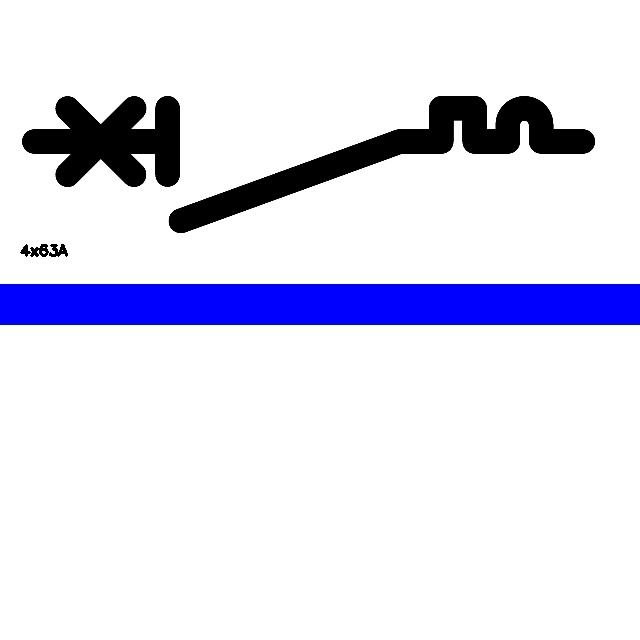interruptor_termomagnetico: (20, 94, 597, 235)
